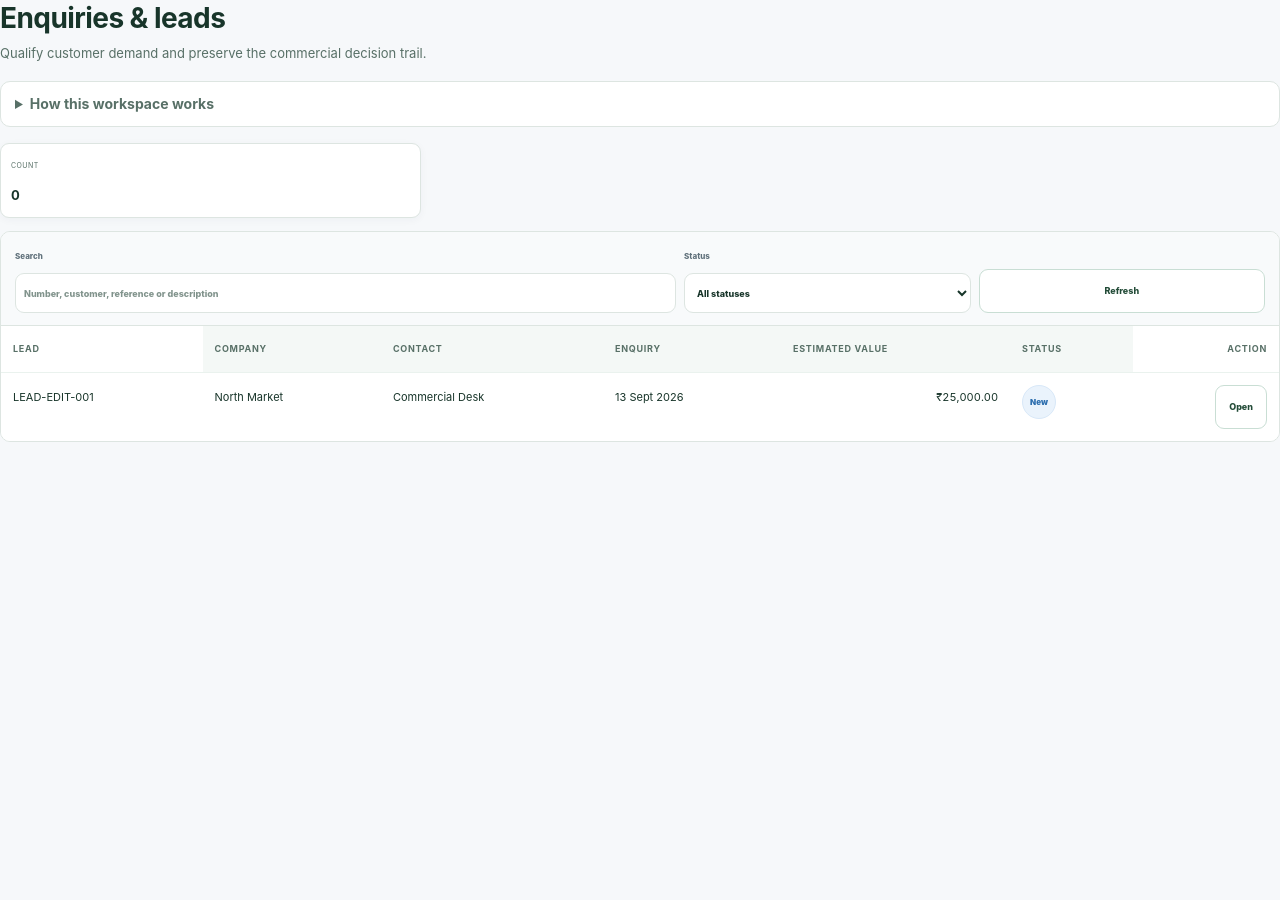
Test case: P2 commercial and finance workspaces › opens record details first and keeps lifecycle actions beside an explicit update action
Click the button "Open": (1241, 407) top-left (1215, 385), bottom-right (1267, 429)
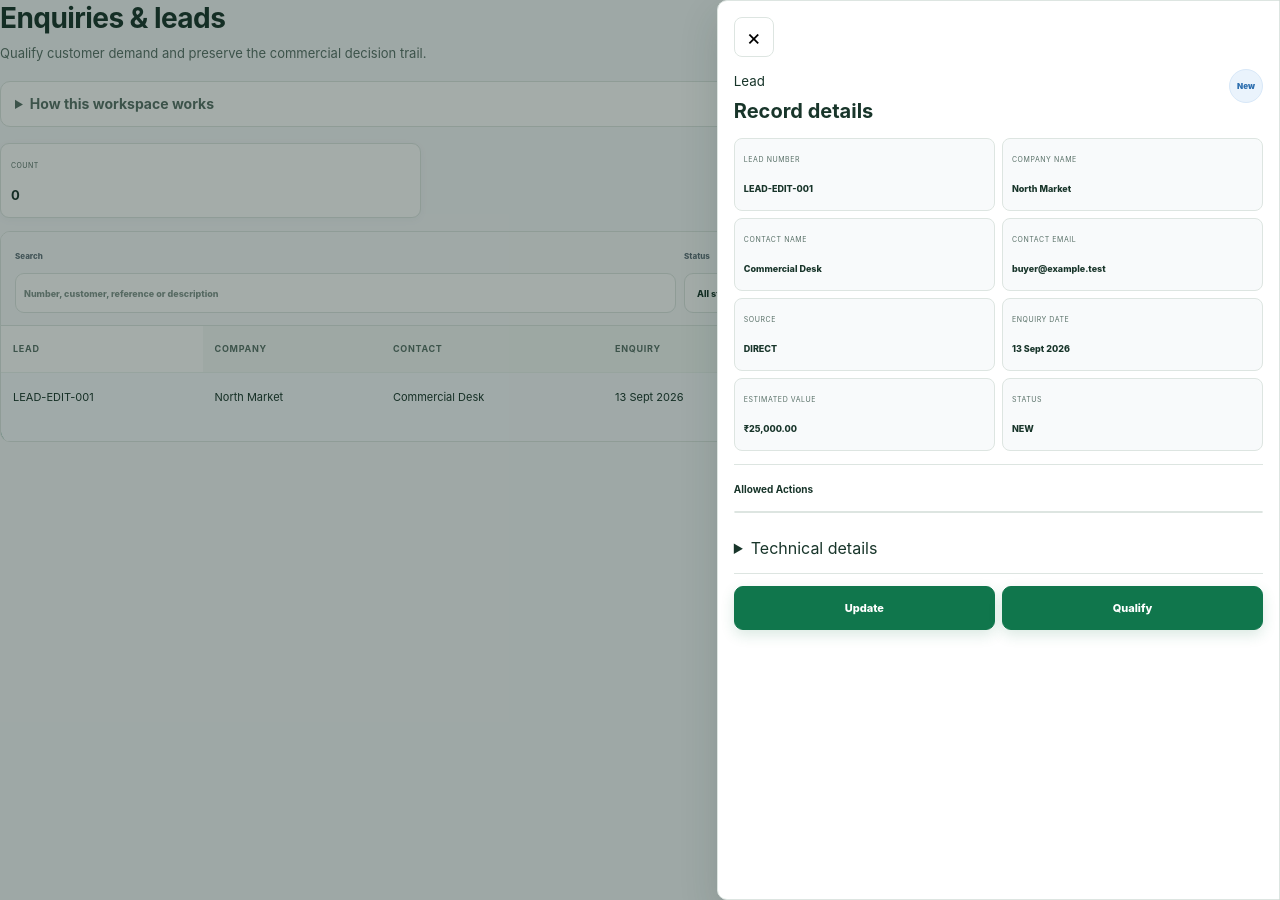
Expected: the dialog "Record details" is shown, top-left (717, 0), bottom-right (1279, 899)
Expected: the button "Qualify" is shown, top-left (1002, 586), bottom-right (1263, 630)
Click the button "Update": (864, 608) top-left (734, 586), bottom-right (995, 630)
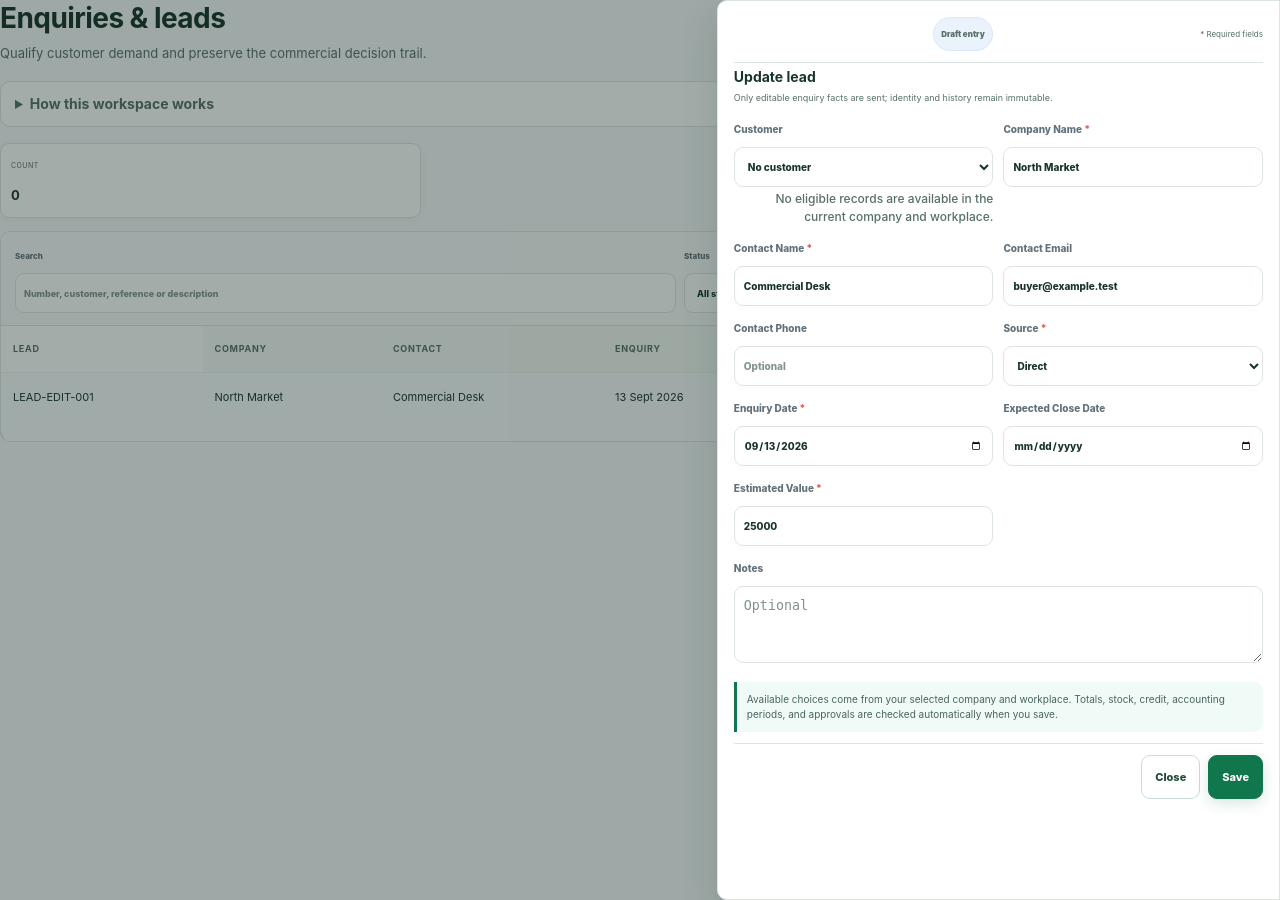
Expected: the dialog "Update lead" is shown, top-left (717, 0), bottom-right (1279, 899)
Expected: the field labelled "Company Name" holds "North Market", top-left (1003, 146), bottom-right (1263, 186)
